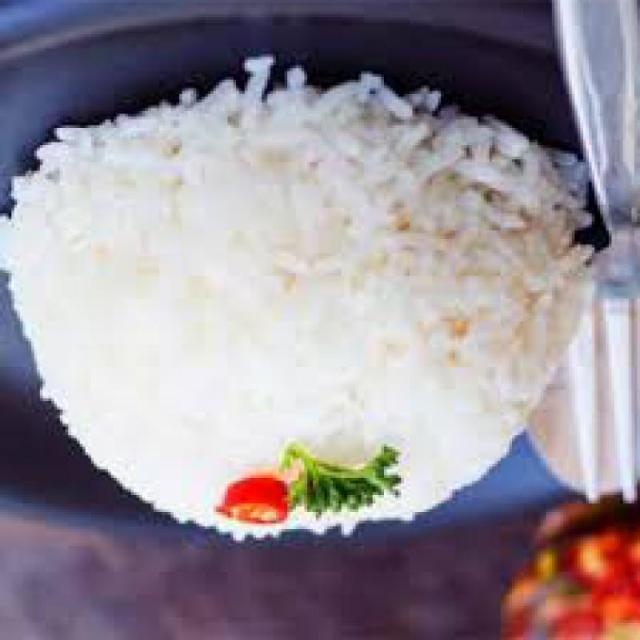nasi_putih: (2, 71, 593, 542)
